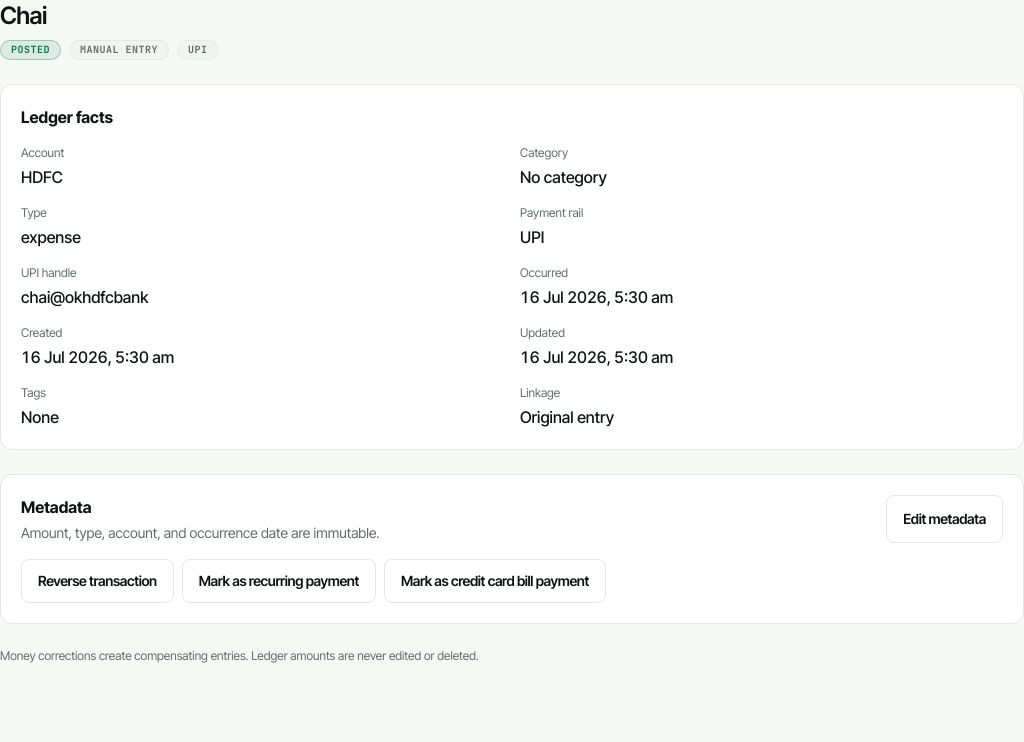
Scenario: TxnDetail › filters categories to active matching kind in the editor
Click the button "Edit metadata".
click(945, 519)  # box [886,495,1003,543]
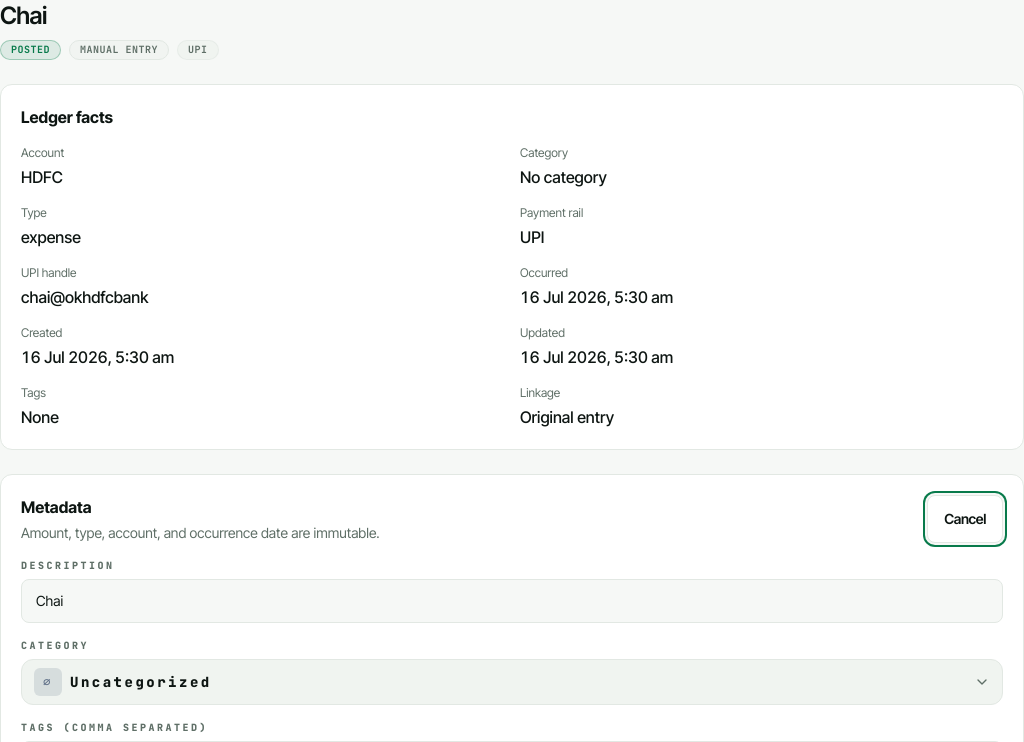
Expected: the dropdown named "Category" is shown
Click the dropdown named "Category".
click(141, 682)  # box [21,659,1003,705]
(page scrolled)
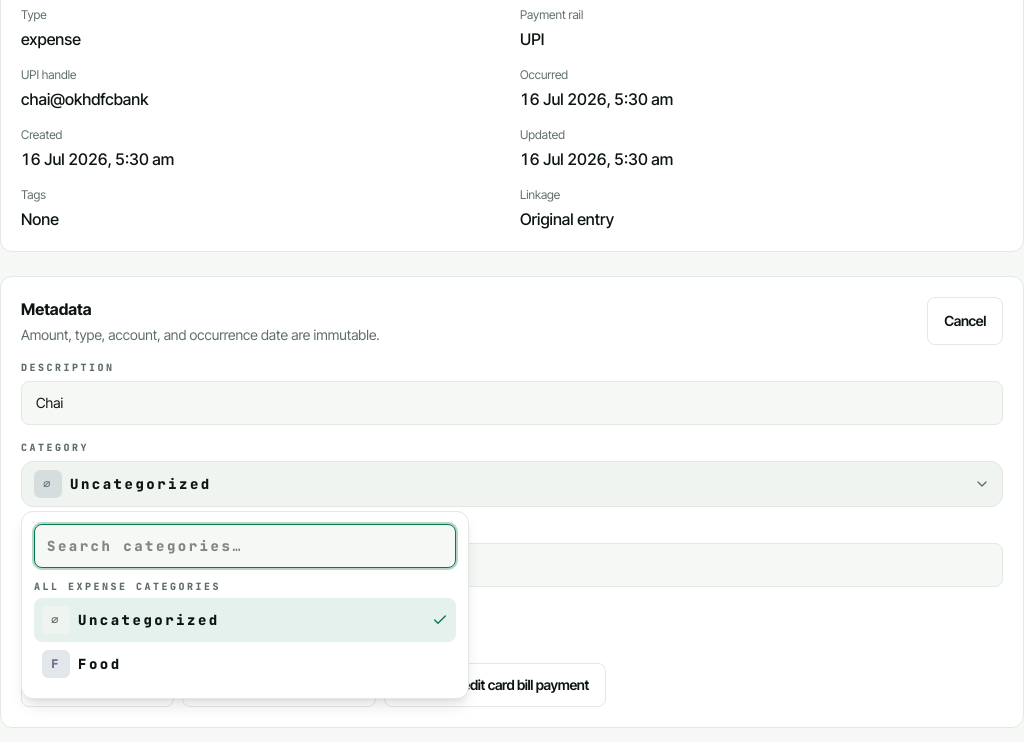
Expected: the option "∅ Uncategorized" is shown, [34,598,456,642]
Expected: the option "F Food" is shown, [34,642,456,686]
